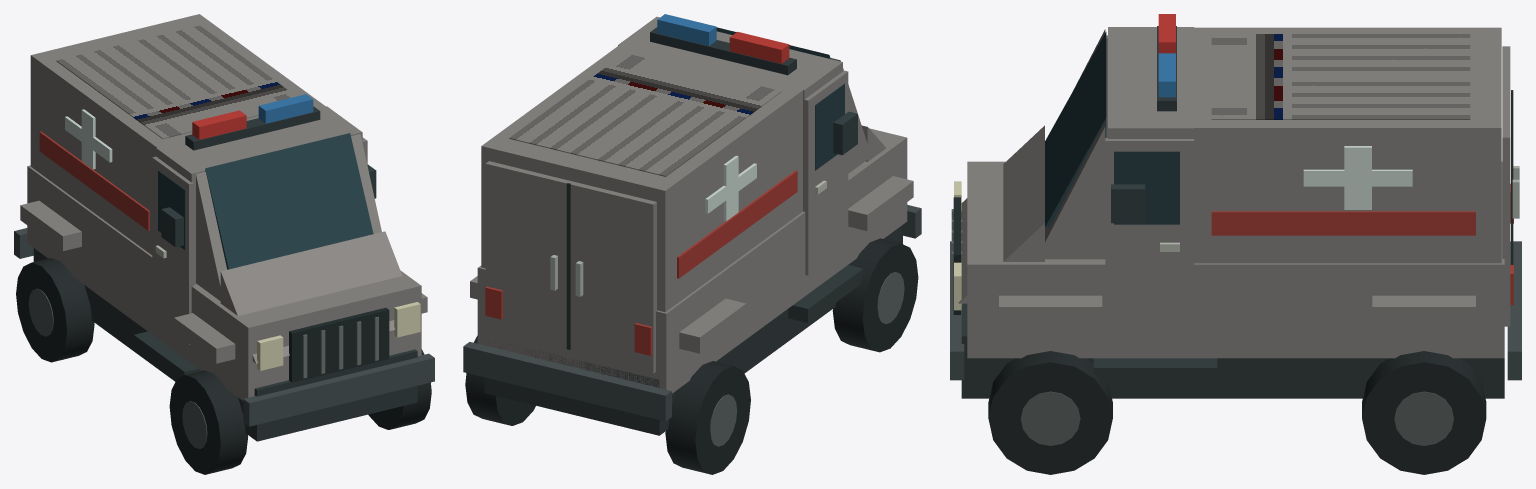
Rendered from CMU3DReduxAU14VehicleCivEMSAmbulance.glb.
The picture shows the model from 3 angles, left to right: view 1: azimuth 30°, elevation 25°; view 2: azimuth 150°, elevation 25°; view 3: azimuth 270°, elevation 25°; orthographic projection. The views are drawn at different scales.
Parts seen in each view (by area): view 1: lower vehicle body, windshield, enclosed rear body, source roof livery, rubber road tire (×3), front hood, sealed chassis, bumper (×2), cab bulkhead, cab door skin, front grille, sloping cab frame (+12 smaller); view 2: rear double doors, enclosed rear body, lower vehicle body, source roof livery, rubber road tire (×3), bumper (×2), sealed chassis, cab door skin, wheel fender (×2), cab bulkhead, side livery stripe, recessed metal wheel hub (×2) (+11 smaller); view 3: lower vehicle body, enclosed rear body, source roof livery, rubber road tire (×2), cab door skin, sealed chassis, cab bulkhead, side livery stripe, wheel fender (×2), windshield, front hood, sloping cab frame (+11 smaller).
Boxes of the visible parts, x1,y1,x2,y2 form: lower vehicle body: (27,165,421,400); windshield: (205,133,373,269); enclosed rear body: (30,14,325,254); source roof livery: (56,25,296,138); rubber road tire (×3): (16,258,431,474); front hood: (220,231,402,363); sealed chassis: (33,248,417,441); bumper (×2): (14,228,434,426); cab bulkhead: (156,106,362,284); cab door skin: (152,156,193,344); front grille: (289,307,389,382); sloping cab frame: (196,134,381,303); rear double doors: (485,161,656,373); enclosed rear body: (481,40,802,312); lower vehicle body: (477,128,907,393); source roof livery: (509,53,781,176); rubber road tire (×3): (465,238,918,474); bumper (×2): (463,205,921,421); sealed chassis: (484,226,902,435); cab door skin: (803,70,848,275); wheel fender (×2): (679,176,913,353); cab bulkhead: (618,16,842,185); side livery stripe: (677,170,797,278); recessed metal wheel hub (×2): (709,272,904,446); lower vehicle body: (967,161,1504,358); enclosed rear body: (1180,27,1501,263); source roof livery: (1211,34,1470,119); rubber road tire (×2): (988,351,1486,474); cab door skin: (1105,138,1194,336); sealed chassis: (961,303,1504,398); cab bulkhead: (1108,27,1194,138); side livery stripe: (1211,211,1475,235); wheel fender (×2): (999,295,1475,325); windshield: (1045,32,1106,227); front hood: (958,125,1044,303); sloping cab frame: (1037,29,1105,259).
Bounding box in the file's own units: 1.04 × 1.4 × 1.99.
23 materials, 1 textured.
